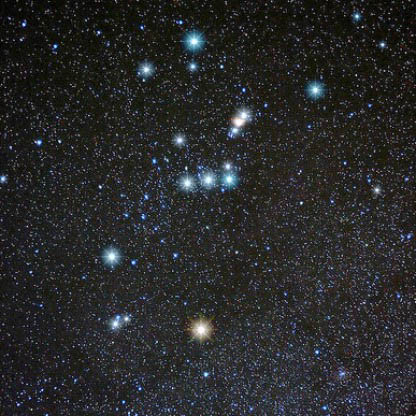Orion: (186, 306, 225, 350), (171, 26, 208, 59), (219, 158, 244, 198), (93, 237, 120, 271), (195, 164, 218, 198), (305, 73, 330, 103), (171, 171, 194, 202)
